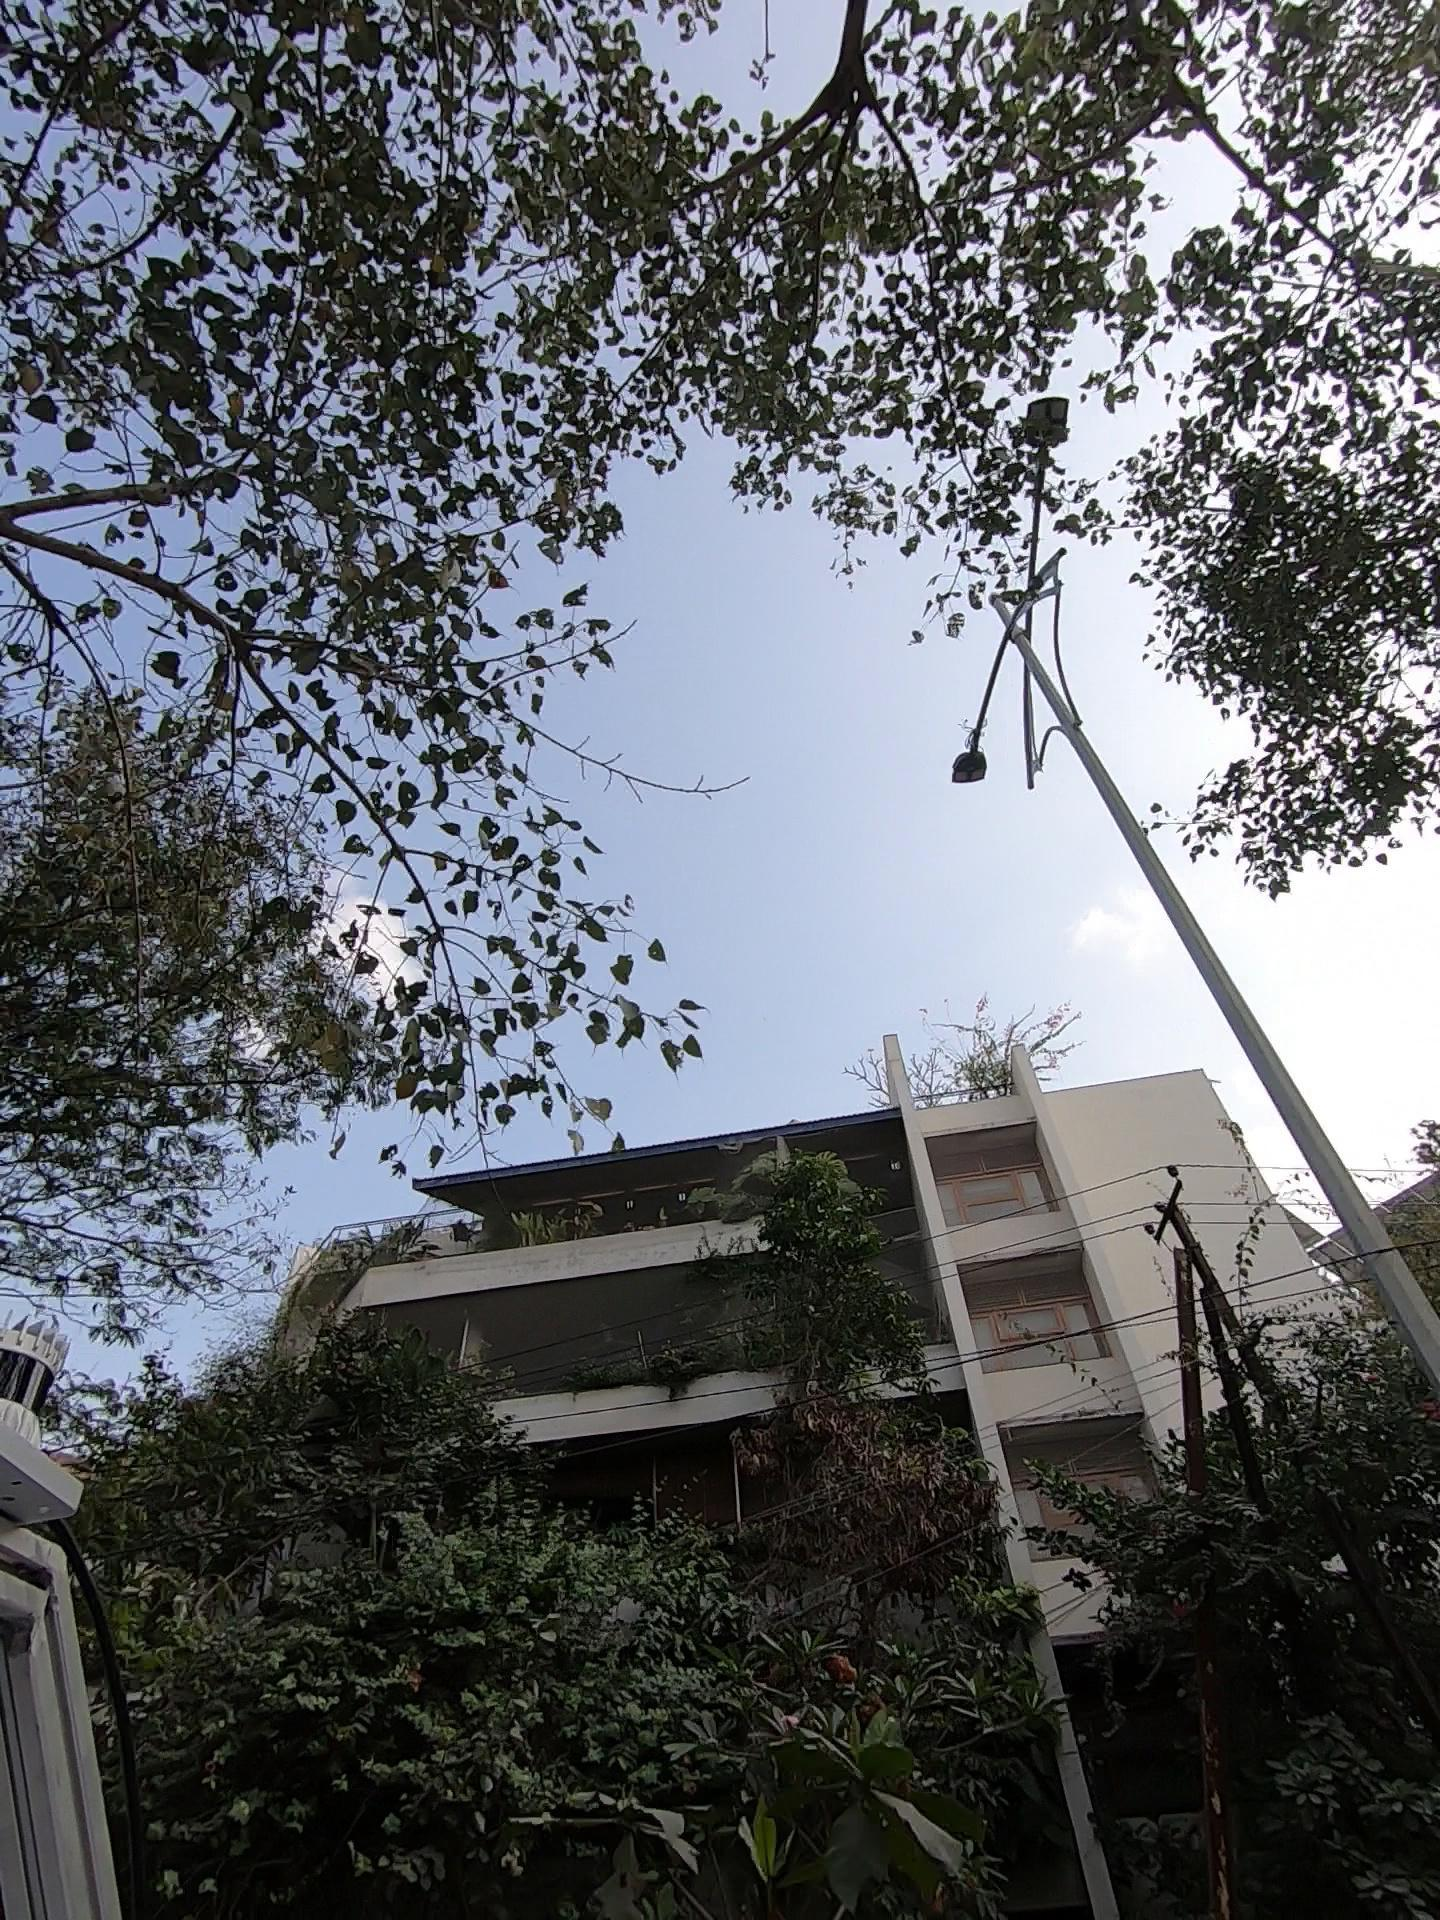off: (889, 370, 1131, 892)
